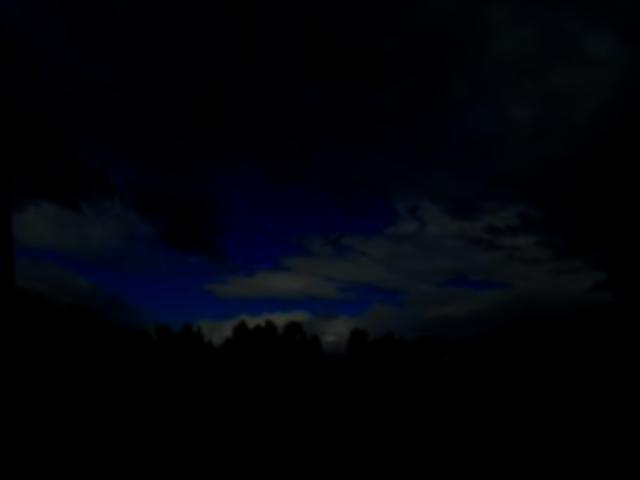uav: (317, 230, 346, 251)
